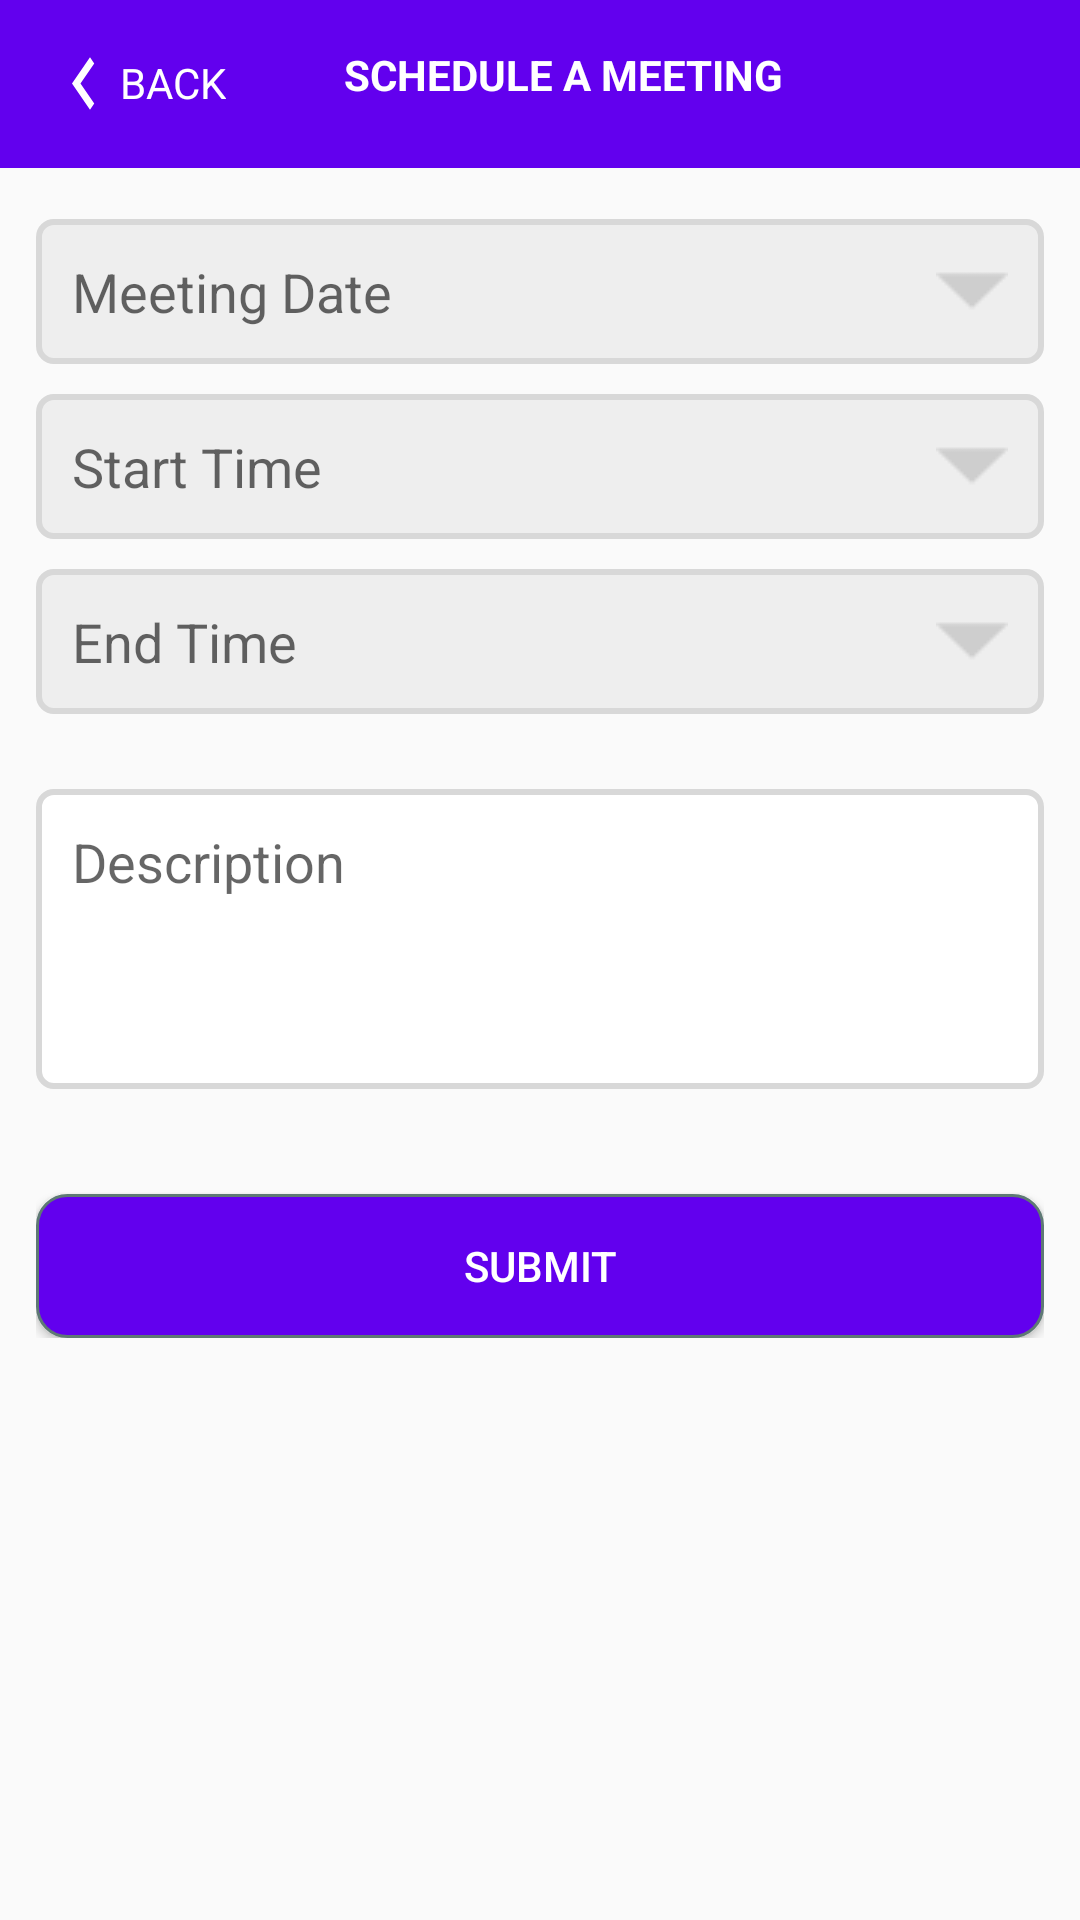

Named icons in this screenshot (1080x1920) and their bounding boxes, (x1, y1, x2, y2):
left: (72, 57, 94, 110)
